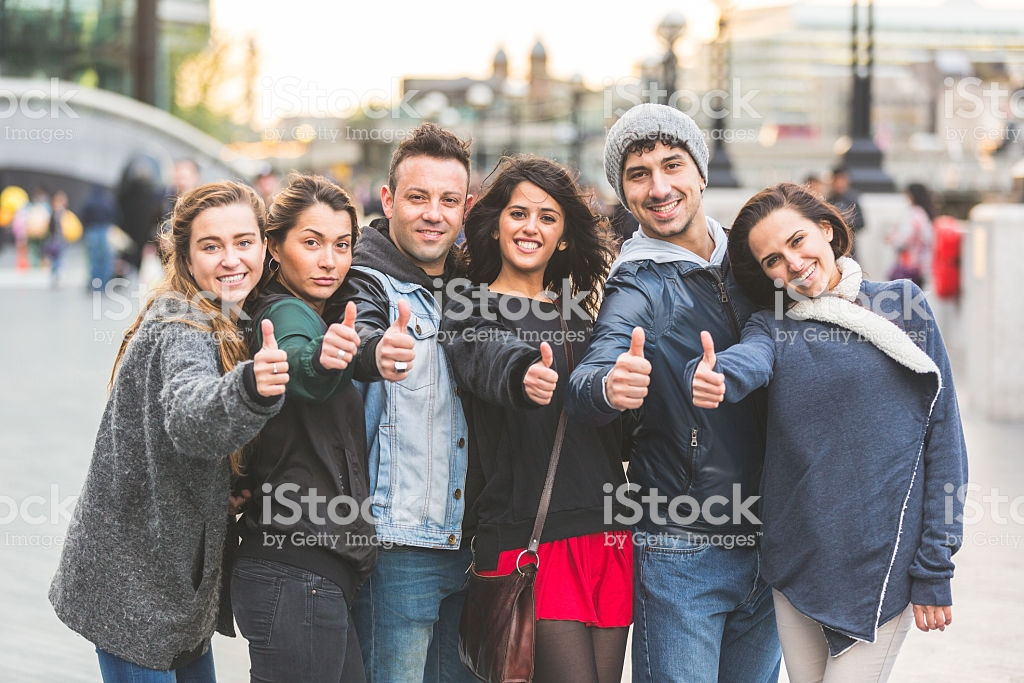thumbsup: (607, 326, 652, 412), (377, 299, 417, 382), (689, 329, 727, 411), (251, 318, 290, 397), (320, 300, 361, 372), (522, 341, 559, 407)
